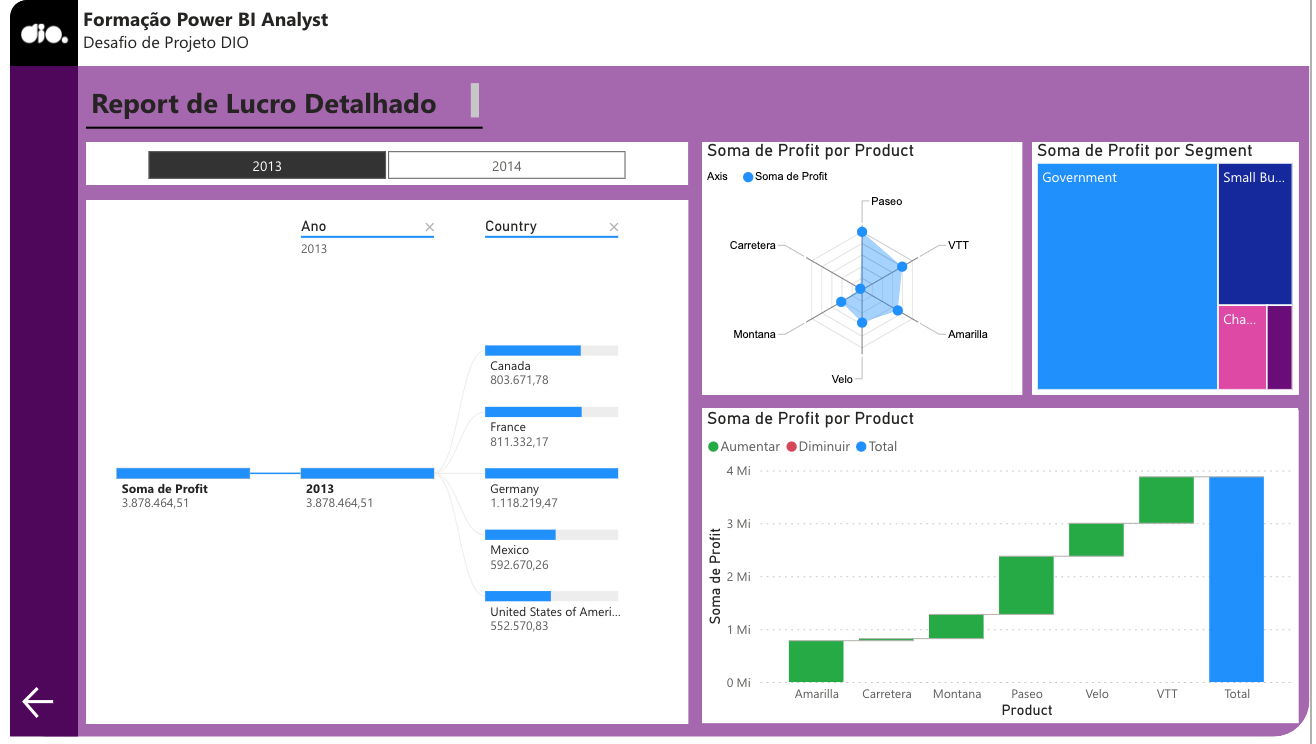

Layout of this report page (visuals, bound fields, positions):
{"tool":"powerbi","page":{"name":"Página 2","canvas":[1280,720],"ordinal":1},"visuals":[{"type":"shape","box":[10.2,0,1269.8,719.8],"z":0},{"type":"shape","box":[84,106.1,387.7,38.5],"z":0,"group":"g1"},{"type":"textbox","box":[84,76.8,389.1,44.5],"z":1000,"group":"g1"},{"type":"shape","box":[9.8,0,66.7,719.8],"z":1000},{"type":"shape","box":[9.6,0,67.3,64.4],"z":2000},{"type":"shape","box":[76,0,1204,64.4],"z":3000},{"type":"image","title":"logo_dio","box":[15.4,9.6,55.8,46.2],"z":4000},{"type":"actionButton","box":[18.5,665.6,45.4,40.3],"z":5000},{"type":"textbox","box":[76,0,312.5,64.4],"z":6000},{"type":"group","id":"g1","title":"Title report","box":[84,76.8,389.1,67.8],"z":7000},{"type":"shape","box":[84,138.7,588.3,42],"z":8000},{"type":"shape","box":[84,195,588.3,511],"z":9000},{"type":"shape","box":[685.8,138.7,312.6,247.1],"z":10000},{"type":"shape","box":[1009.4,138.7,258.9,247.1],"z":11000},{"type":"shape","box":[685.8,399.2,582.4,306.8],"z":12000},{"type":"slicer","fields":{"Values":["financials.Date.Variation.Hierarquia de datas.Ano"]},"box":[120.2,140.2,516,37.2],"z":13000},{"type":"treemap","fields":{"Values":["Sum(financials.Profit)"],"Group":["financials.Segment"]},"box":[1009.1,138.3,259.4,247],"z":14000},{"type":"waterfallChart","fields":{"Category":["financials.Product","financials.Date.Variation.Hierarquia de datas.Trimestre"],"Y":["Sum(financials.Profit)"]},"box":[685.8,399.6,582.8,306.2],"z":15000},{"type":"RadarChart1446119667547","fields":{"Category":["financials.Product"],"Y":["Sum(financials.Profit)"]},"box":[685.8,138.3,312.8,247],"z":16000},{"type":"decompositionTreeVisual","fields":{"Analyze":["Sum(financials.Profit)"],"ExplainBy":["financials.Date.Variation.Hierarquia de datas.Ano","financials.Country"]},"box":[83.9,194.6,588.5,512.2],"z":17000}]}

Visuals, with their boxes in screenshot pixels (x1, y1, x2, y2):
shape: {"x1": 7, "y1": 0, "x2": 1294, "y2": 730}
shape: {"x1": 82, "y1": 108, "x2": 475, "y2": 147}
textbox: {"x1": 82, "y1": 78, "x2": 476, "y2": 123}
shape: {"x1": 7, "y1": 0, "x2": 74, "y2": 730}
shape: {"x1": 6, "y1": 0, "x2": 75, "y2": 65}
shape: {"x1": 74, "y1": 0, "x2": 1294, "y2": 65}
"logo_dio" image: {"x1": 12, "y1": 10, "x2": 69, "y2": 57}
actionButton: {"x1": 15, "y1": 675, "x2": 61, "y2": 716}
textbox: {"x1": 74, "y1": 0, "x2": 391, "y2": 65}
"Title report" group: {"x1": 82, "y1": 78, "x2": 476, "y2": 147}
shape: {"x1": 82, "y1": 141, "x2": 678, "y2": 183}
shape: {"x1": 82, "y1": 198, "x2": 678, "y2": 716}
shape: {"x1": 692, "y1": 141, "x2": 1009, "y2": 391}
shape: {"x1": 1020, "y1": 141, "x2": 1282, "y2": 391}
shape: {"x1": 692, "y1": 405, "x2": 1282, "y2": 716}
slicer - financials.Date.Variation.Hierarquia de datas.Ano: {"x1": 118, "y1": 142, "x2": 642, "y2": 180}
treemap - Sum(financials.Profit) x financials.Segment: {"x1": 1020, "y1": 140, "x2": 1283, "y2": 391}
waterfallChart - financials.Product x financials.Date.Variation.Hierarquia de datas.Trimestre: {"x1": 692, "y1": 405, "x2": 1283, "y2": 716}
RadarChart1446119667547 - financials.Product x Sum(financials.Profit): {"x1": 692, "y1": 140, "x2": 1009, "y2": 391}
decompositionTreeVisual - Sum(financials.Profit) x financials.Date.Variation.Hierarquia de datas.Ano: {"x1": 82, "y1": 197, "x2": 678, "y2": 717}
